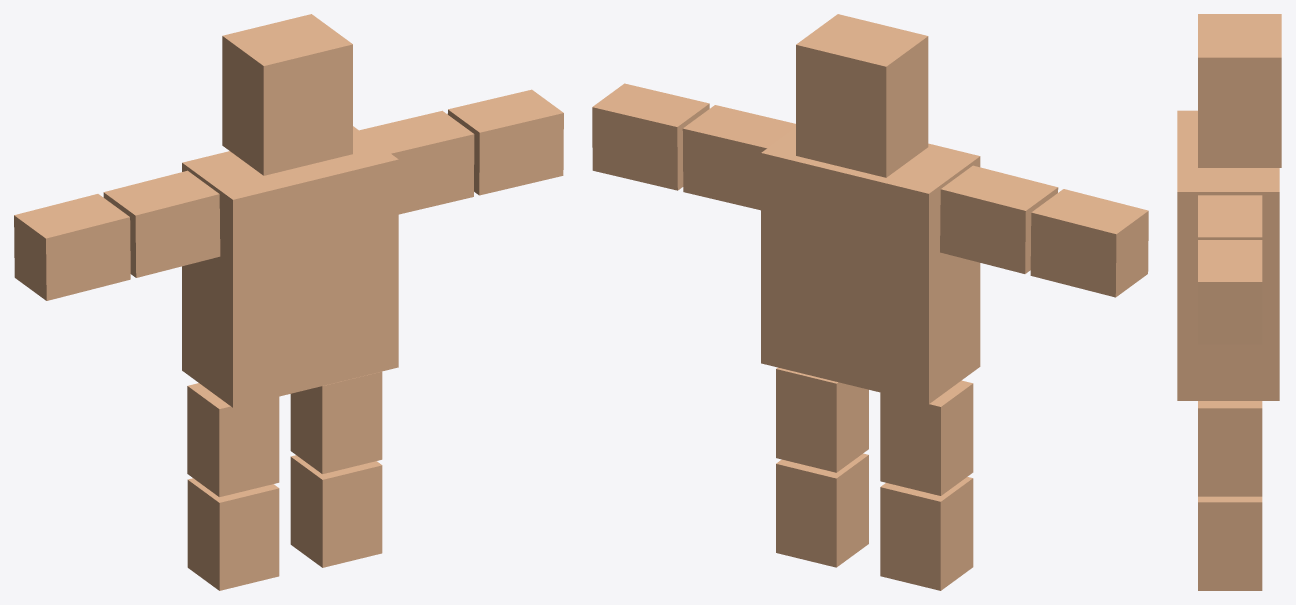
File: block-dude.dae
3 views of the same model, side by side, from view 1: azimuth 30°, elevation 25°; view 2: azimuth 150°, elevation 25°; view 3: azimuth 270°, elevation 25° (orthographic).
Visible parts, largest first — view 1: Quader001, Quader010, Quader007, Quader002, Quader004, Quader006, Quader003, Quader008, Quader005, Quader009; view 2: Quader001, Quader010, Quader007, Quader002, Quader004, Quader003, Quader006, Quader008, Quader005, Quader009; view 3: Quader001, Quader010, Quader008, Quader005, Quader004, Quader009.
Boxes of the visible parts, bbox=[...] form: Quader001: bbox=[182, 126, 398, 407]; Quader010: bbox=[222, 14, 352, 175]; Quader007: bbox=[14, 194, 130, 300]; Quader002: bbox=[187, 478, 279, 590]; Quader004: bbox=[290, 455, 382, 567]; Quader006: bbox=[103, 170, 220, 277]; Quader003: bbox=[187, 383, 279, 497]; Quader008: bbox=[447, 89, 563, 195]; Quader005: bbox=[290, 371, 382, 474]; Quader009: bbox=[359, 110, 474, 214]; Quader001: bbox=[761, 127, 980, 404]; Quader010: bbox=[796, 14, 928, 177]; Quader007: bbox=[1030, 189, 1148, 297]; Quader002: bbox=[880, 477, 973, 590]; Quader004: bbox=[776, 453, 868, 567]; Quader003: bbox=[880, 380, 973, 495]; Quader006: bbox=[940, 165, 1058, 273]; Quader008: bbox=[592, 83, 709, 190]; Quader005: bbox=[776, 367, 868, 472]; Quader009: bbox=[682, 105, 795, 210]; Quader001: bbox=[1177, 110, 1279, 400]; Quader010: bbox=[1198, 14, 1281, 167]; Quader008: bbox=[1198, 240, 1262, 344]; Quader005: bbox=[1198, 401, 1262, 496]; Quader004: bbox=[1198, 496, 1262, 590]; Quader009: bbox=[1198, 195, 1262, 239].
Size of the model in its own units: 3.14 by 2.99 by 0.5443.
